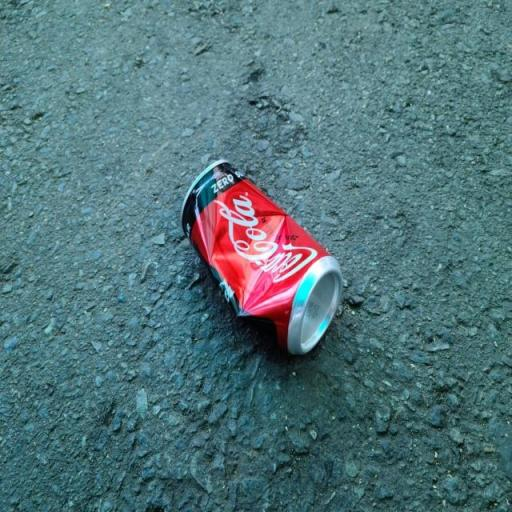metal: (149, 147, 395, 393)
